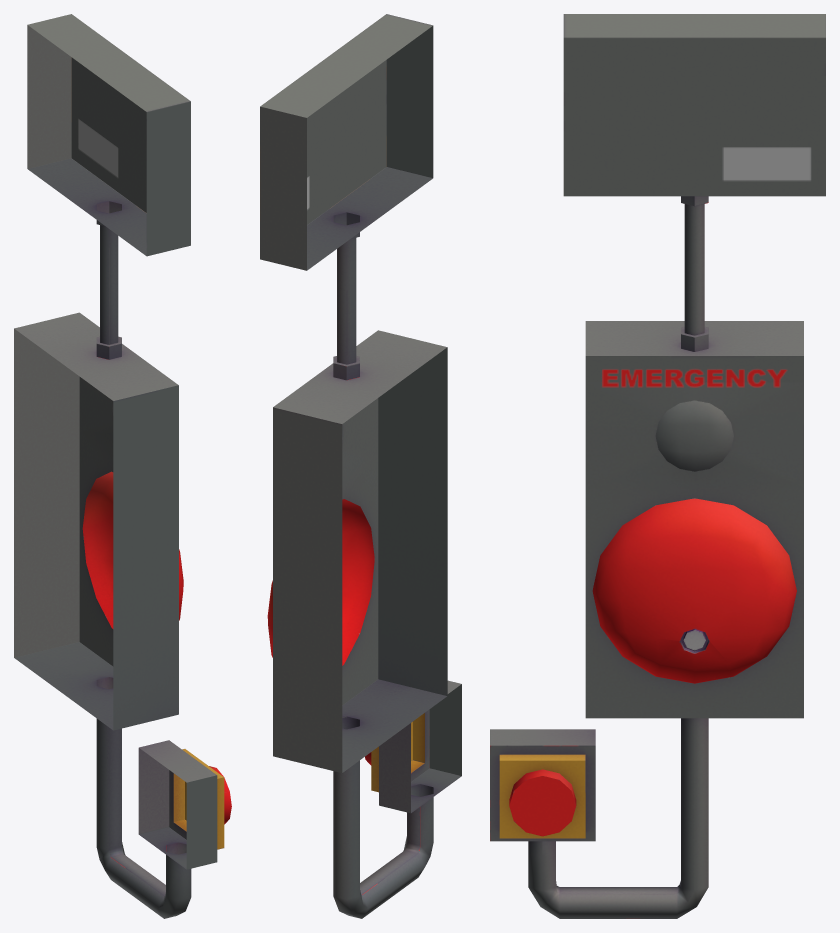
Rendered from Chem_emergencyBell.fbx.
3 renders of one model, left to right at view 1: azimuth 30°, elevation 25°; view 2: azimuth 150°, elevation 25°; view 3: azimuth 270°, elevation 25°, orthographic. The views are drawn at different scales.
Parts seen in each view (by area): view 1: Emergency_Bell; view 2: Emergency_Bell; view 3: Emergency_Bell.
Boxes of the visible parts, left/top/right/bottom form: Emergency_Bell: left=14, top=14, right=231, bottom=918; Emergency_Bell: left=260, top=14, right=461, bottom=918; Emergency_Bell: left=490, top=14, right=825, bottom=918.
Size of the model in its own units: 0.199 by 1.63 by 0.5569.
Materials: 1 (1 with a texture image).
